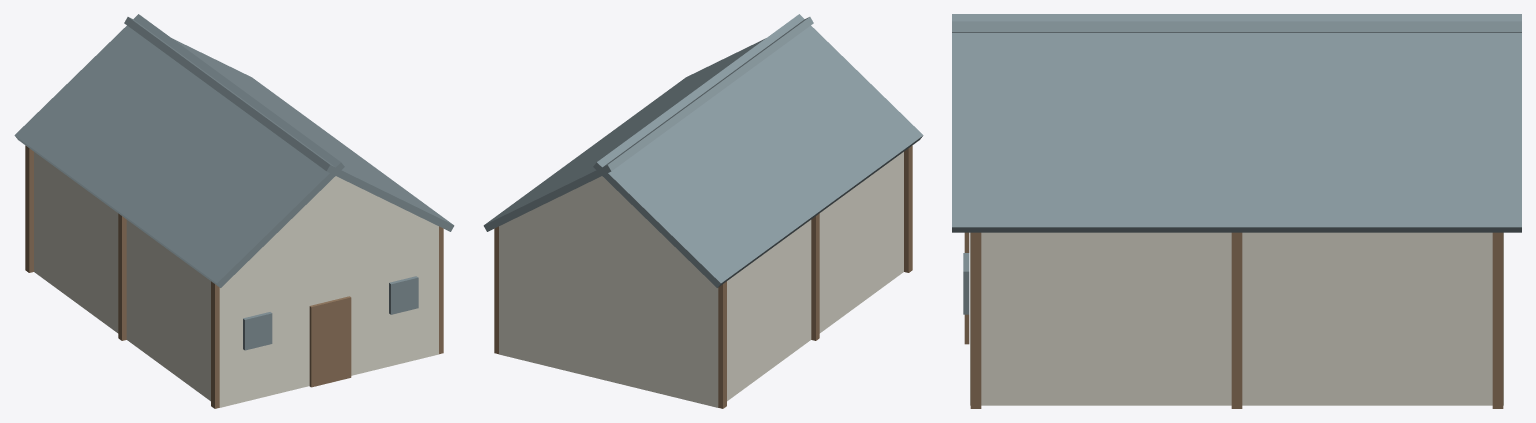
File: boathouse.glb
3 views of the same model, side by side, from view 1: azimuth 30°, elevation 25°; view 2: azimuth 150°, elevation 25°; view 3: azimuth 270°, elevation 25° (orthographic). The views are drawn at different scales.
Parts seen in each view (by area): view 1: Plaster, Roof, Roof.001, Gable, Door, Post.001, Post.002, Post, Window.001, Window, Post.003; view 2: Plaster, Roof, Roof.001, Gable.001, Post, Post.001, Post.002, Post.005; view 3: Roof.001, Plaster, Roof, Post.003, Post.004, Post.005.
Part boxes in pixels (bbox=[...]): Plaster: bbox=[34, 152, 438, 407]; Roof: bbox=[14, 14, 344, 287]; Roof.001: bbox=[124, 17, 454, 231]; Gable: bbox=[241, 176, 430, 268]; Door: bbox=[309, 296, 351, 387]; Post.001: bbox=[118, 213, 126, 340]; Post.002: bbox=[25, 145, 33, 272]; Post: bbox=[211, 281, 219, 408]; Window.001: bbox=[389, 276, 418, 314]; Window: bbox=[243, 312, 272, 350]; Post.003: bbox=[439, 226, 443, 354]; Plaster: bbox=[499, 152, 903, 407]; Roof: bbox=[593, 14, 923, 287]; Roof.001: bbox=[483, 17, 813, 231]; Gable.001: bbox=[507, 176, 696, 268]; Post: bbox=[904, 145, 912, 272]; Post.001: bbox=[811, 213, 819, 340]; Post.002: bbox=[718, 281, 726, 408]; Post.005: bbox=[494, 226, 498, 354]; Roof.001: bbox=[952, 14, 1521, 232]; Plaster: bbox=[970, 232, 1503, 405]; Roof: bbox=[952, 21, 1521, 32]; Post.003: bbox=[970, 232, 981, 408]; Post.004: bbox=[1231, 232, 1242, 408]; Post.005: bbox=[1492, 232, 1503, 408].
Bounding box in the file's own units: 6.5 × 5.81 × 9.6.
